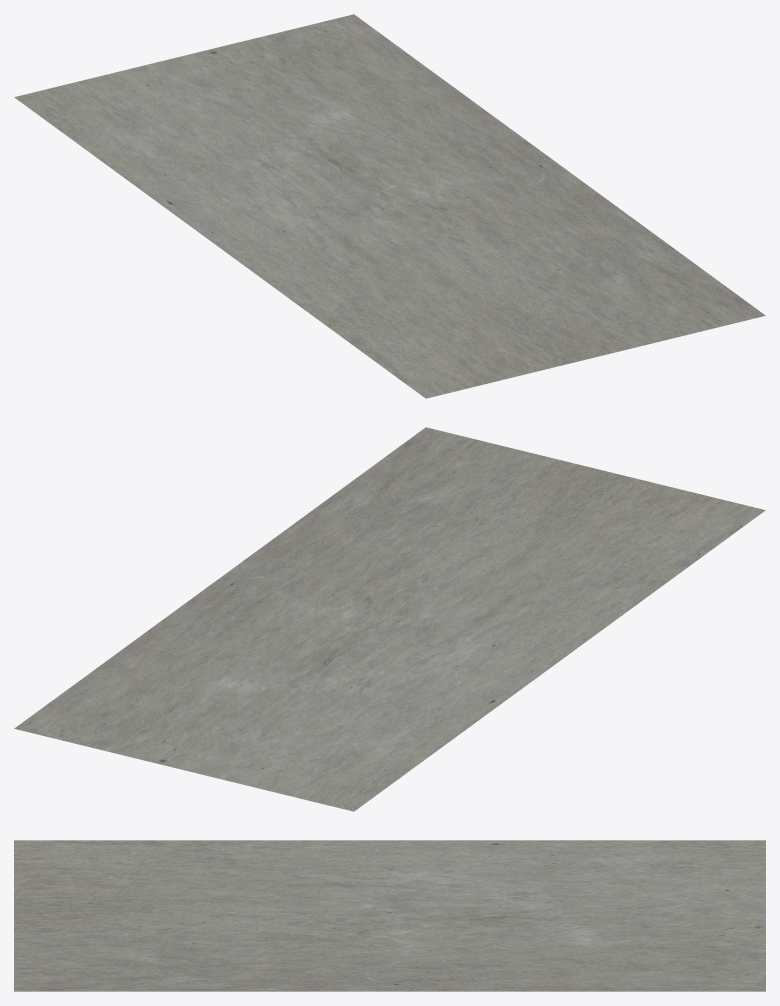
The model's file is Piso.obj.
3 renders of one model, top to bottom at view 1: azimuth 30°, elevation 25°; view 2: azimuth 150°, elevation 25°; view 3: azimuth 270°, elevation 25°, orthographic. The views are drawn at different scales.
Parts seen in each view (by area): view 1: pPlane1; view 2: pPlane1; view 3: pPlane1.
Boxes of the visible parts, bbox=[...] form: pPlane1: bbox=[14, 14, 765, 398]; pPlane1: bbox=[14, 427, 765, 811]; pPlane1: bbox=[14, 840, 765, 991].
Bounding box in the file's own units: 22.7 × 0 × 47.62.
1 material, 1 textured.
